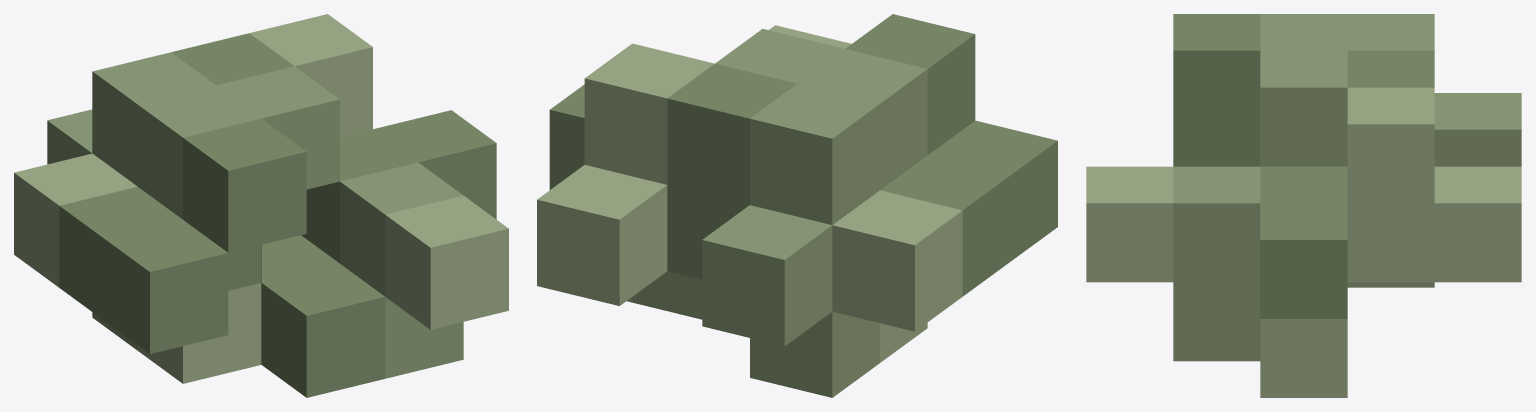
The model's file is Sagebrush.fbx.
3 views of the same model, side by side, from view 1: azimuth 30°, elevation 25°; view 2: azimuth 150°, elevation 25°; view 3: azimuth 270°, elevation 25° (orthographic). The views are drawn at different scales.
Parts seen in each view (by area): view 1: Sagebrush; view 2: Sagebrush; view 3: Sagebrush.
Part boxes in pixels (<box>): Sagebrush: <box>14,14,508,397</box>; Sagebrush: <box>537,14,1057,397</box>; Sagebrush: <box>1086,14,1521,397</box>.
Bounding box in the file's own units: 5 × 3 × 5.
